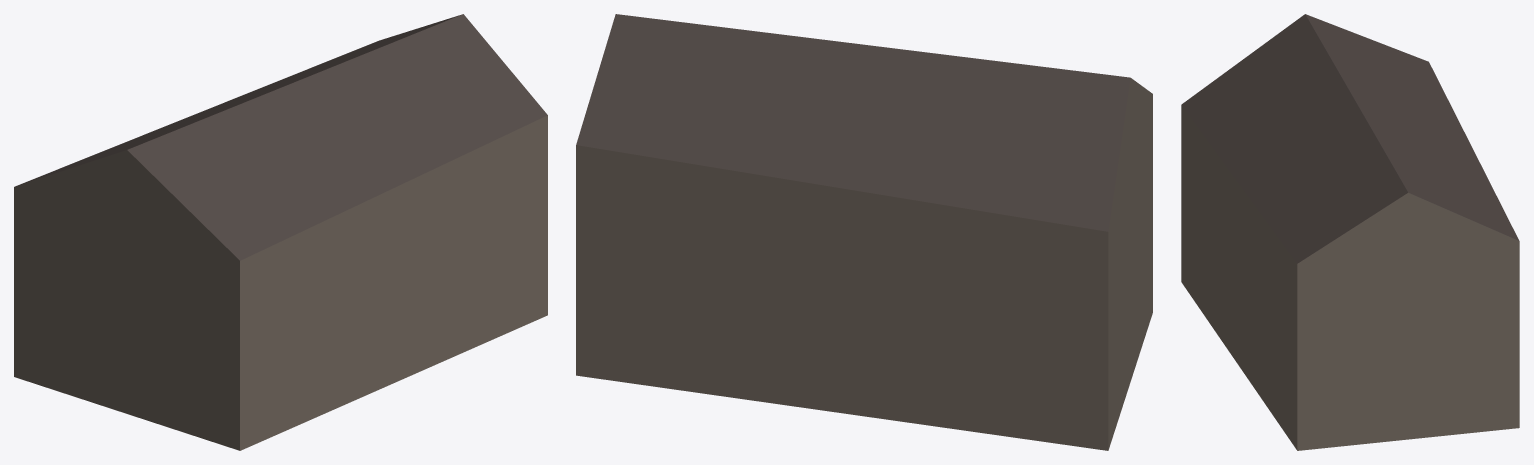
The picture shows the model from 3 angles, left to right: view 1: azimuth 30°, elevation 25°; view 2: azimuth 150°, elevation 25°; view 3: azimuth 270°, elevation 25°; orthographic projection. The views are drawn at different scales.
Visible parts, largest first — view 1: HP-w1198721567; view 2: HP-w1198721567; view 3: HP-w1198721567.
Part boxes in pixels (x1,y1,x2,y2): HP-w1198721567: [14, 14, 547, 450]; HP-w1198721567: [576, 14, 1152, 450]; HP-w1198721567: [1181, 14, 1519, 450].
Bounding box in the file's own units: 15.31 × 8.34 × 10.34.
